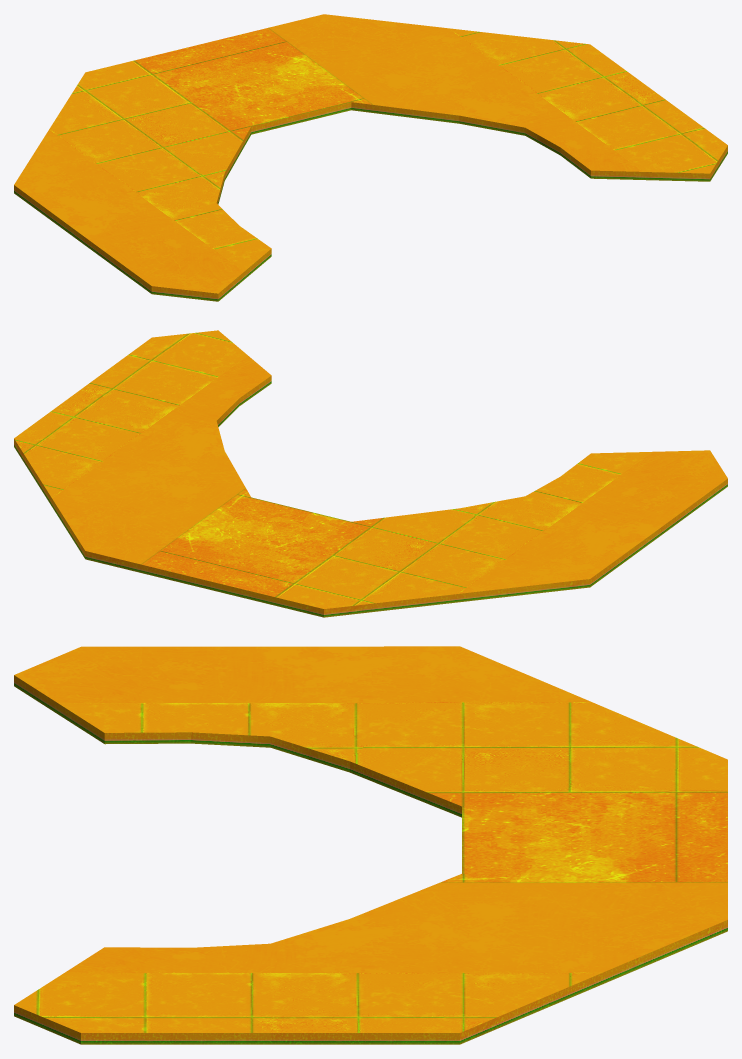
File: FacilityFloor_01_SM_Low.fbx
The picture shows the model from 3 angles, top to bottom: view 1: azimuth 30°, elevation 25°; view 2: azimuth 150°, elevation 25°; view 3: azimuth 270°, elevation 25°; orthographic projection. The views are drawn at different scales.
Visible parts, largest first — view 1: facility_floor_noHole_geo; view 2: facility_floor_noHole_geo; view 3: facility_floor_noHole_geo.
Part boxes in pixels (x1=…): facility_floor_noHole_geo: x1=14, y1=14, x2=727, y2=301; facility_floor_noHole_geo: x1=14, y1=330, x2=727, y2=617; facility_floor_noHole_geo: x1=14, y1=646, x2=727, y2=1044.
Size of the model in its own units: 3555 by 50 by 2774.
Materials: 3 (2 with a texture image).
